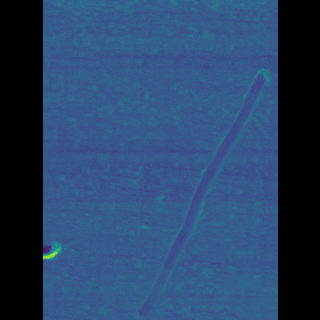Loch: (141, 65, 242, 319), (73, 239, 91, 264)
